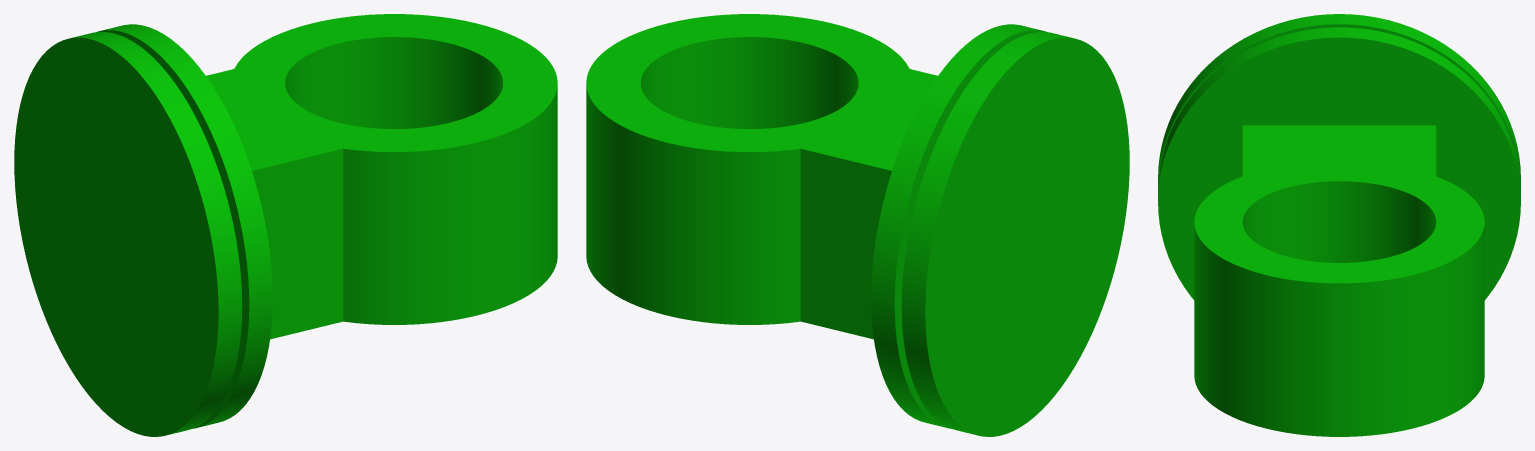
3 views of the same model, side by side, from view 1: azimuth 30°, elevation 25°; view 2: azimuth 150°, elevation 25°; view 3: azimuth 270°, elevation 25° (orthographic). The views are drawn at different scales.
Parts seen in each view (by area): view 1: Part02; view 2: Part02; view 3: Part02.
Boxes of the visible parts, x1=… form: Part02: x1=14, y1=14, x2=557, y2=436; Part02: x1=586, y1=14, x2=1129, y2=436; Part02: x1=1158, y1=14, x2=1520, y2=436.
Size of the model in its own units: 0.1777 by 0.15 by 0.15.
